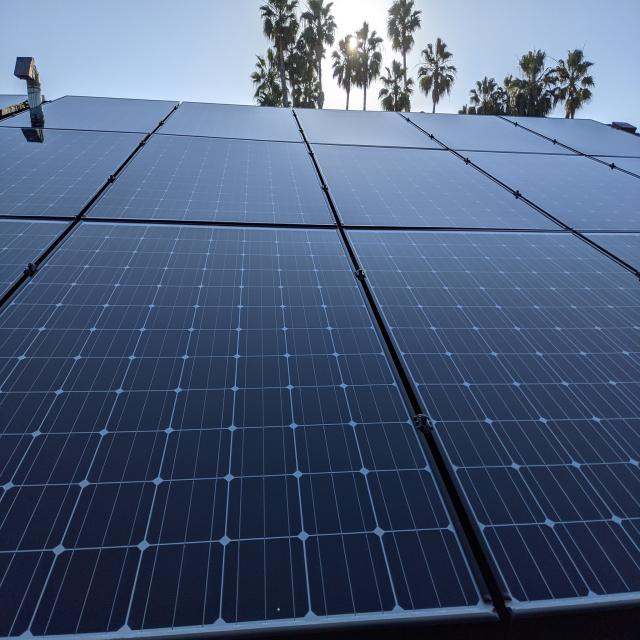clean-solar-panel: (0, 223, 489, 637)
